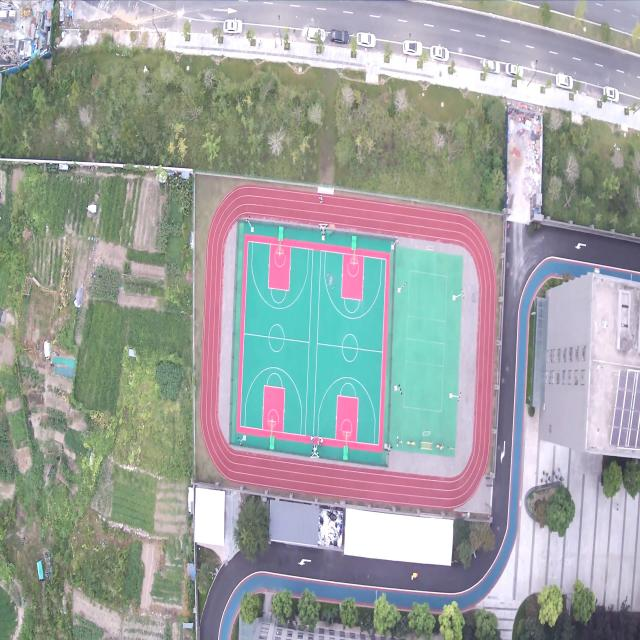UAV: (326, 273, 334, 289)
